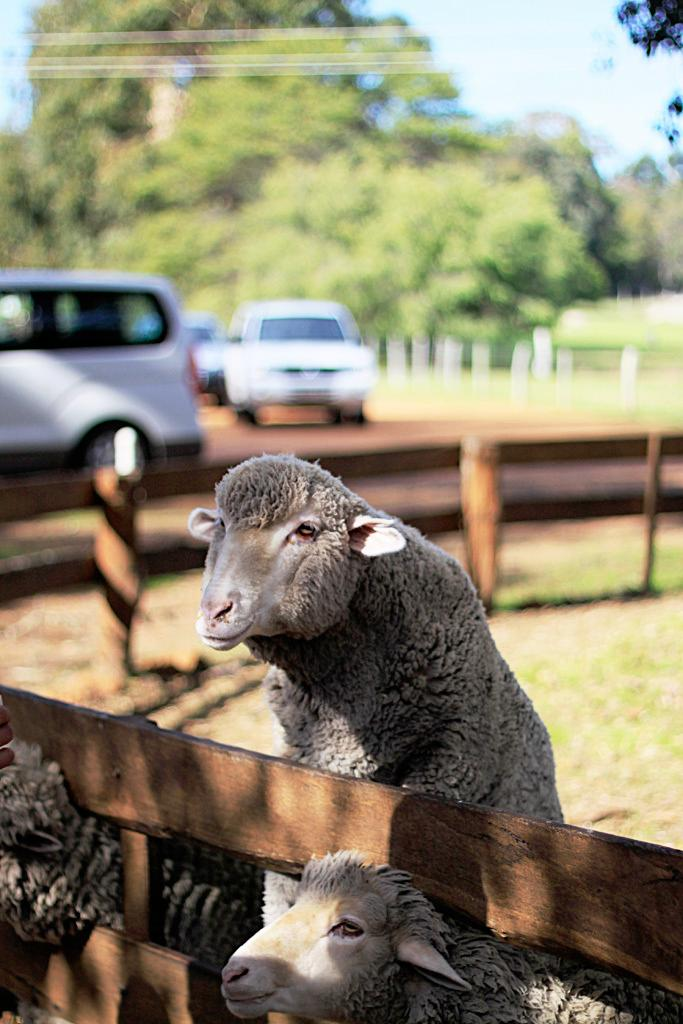Sheep: (185, 454, 565, 928), (217, 845, 682, 1023), (0, 738, 265, 951)
